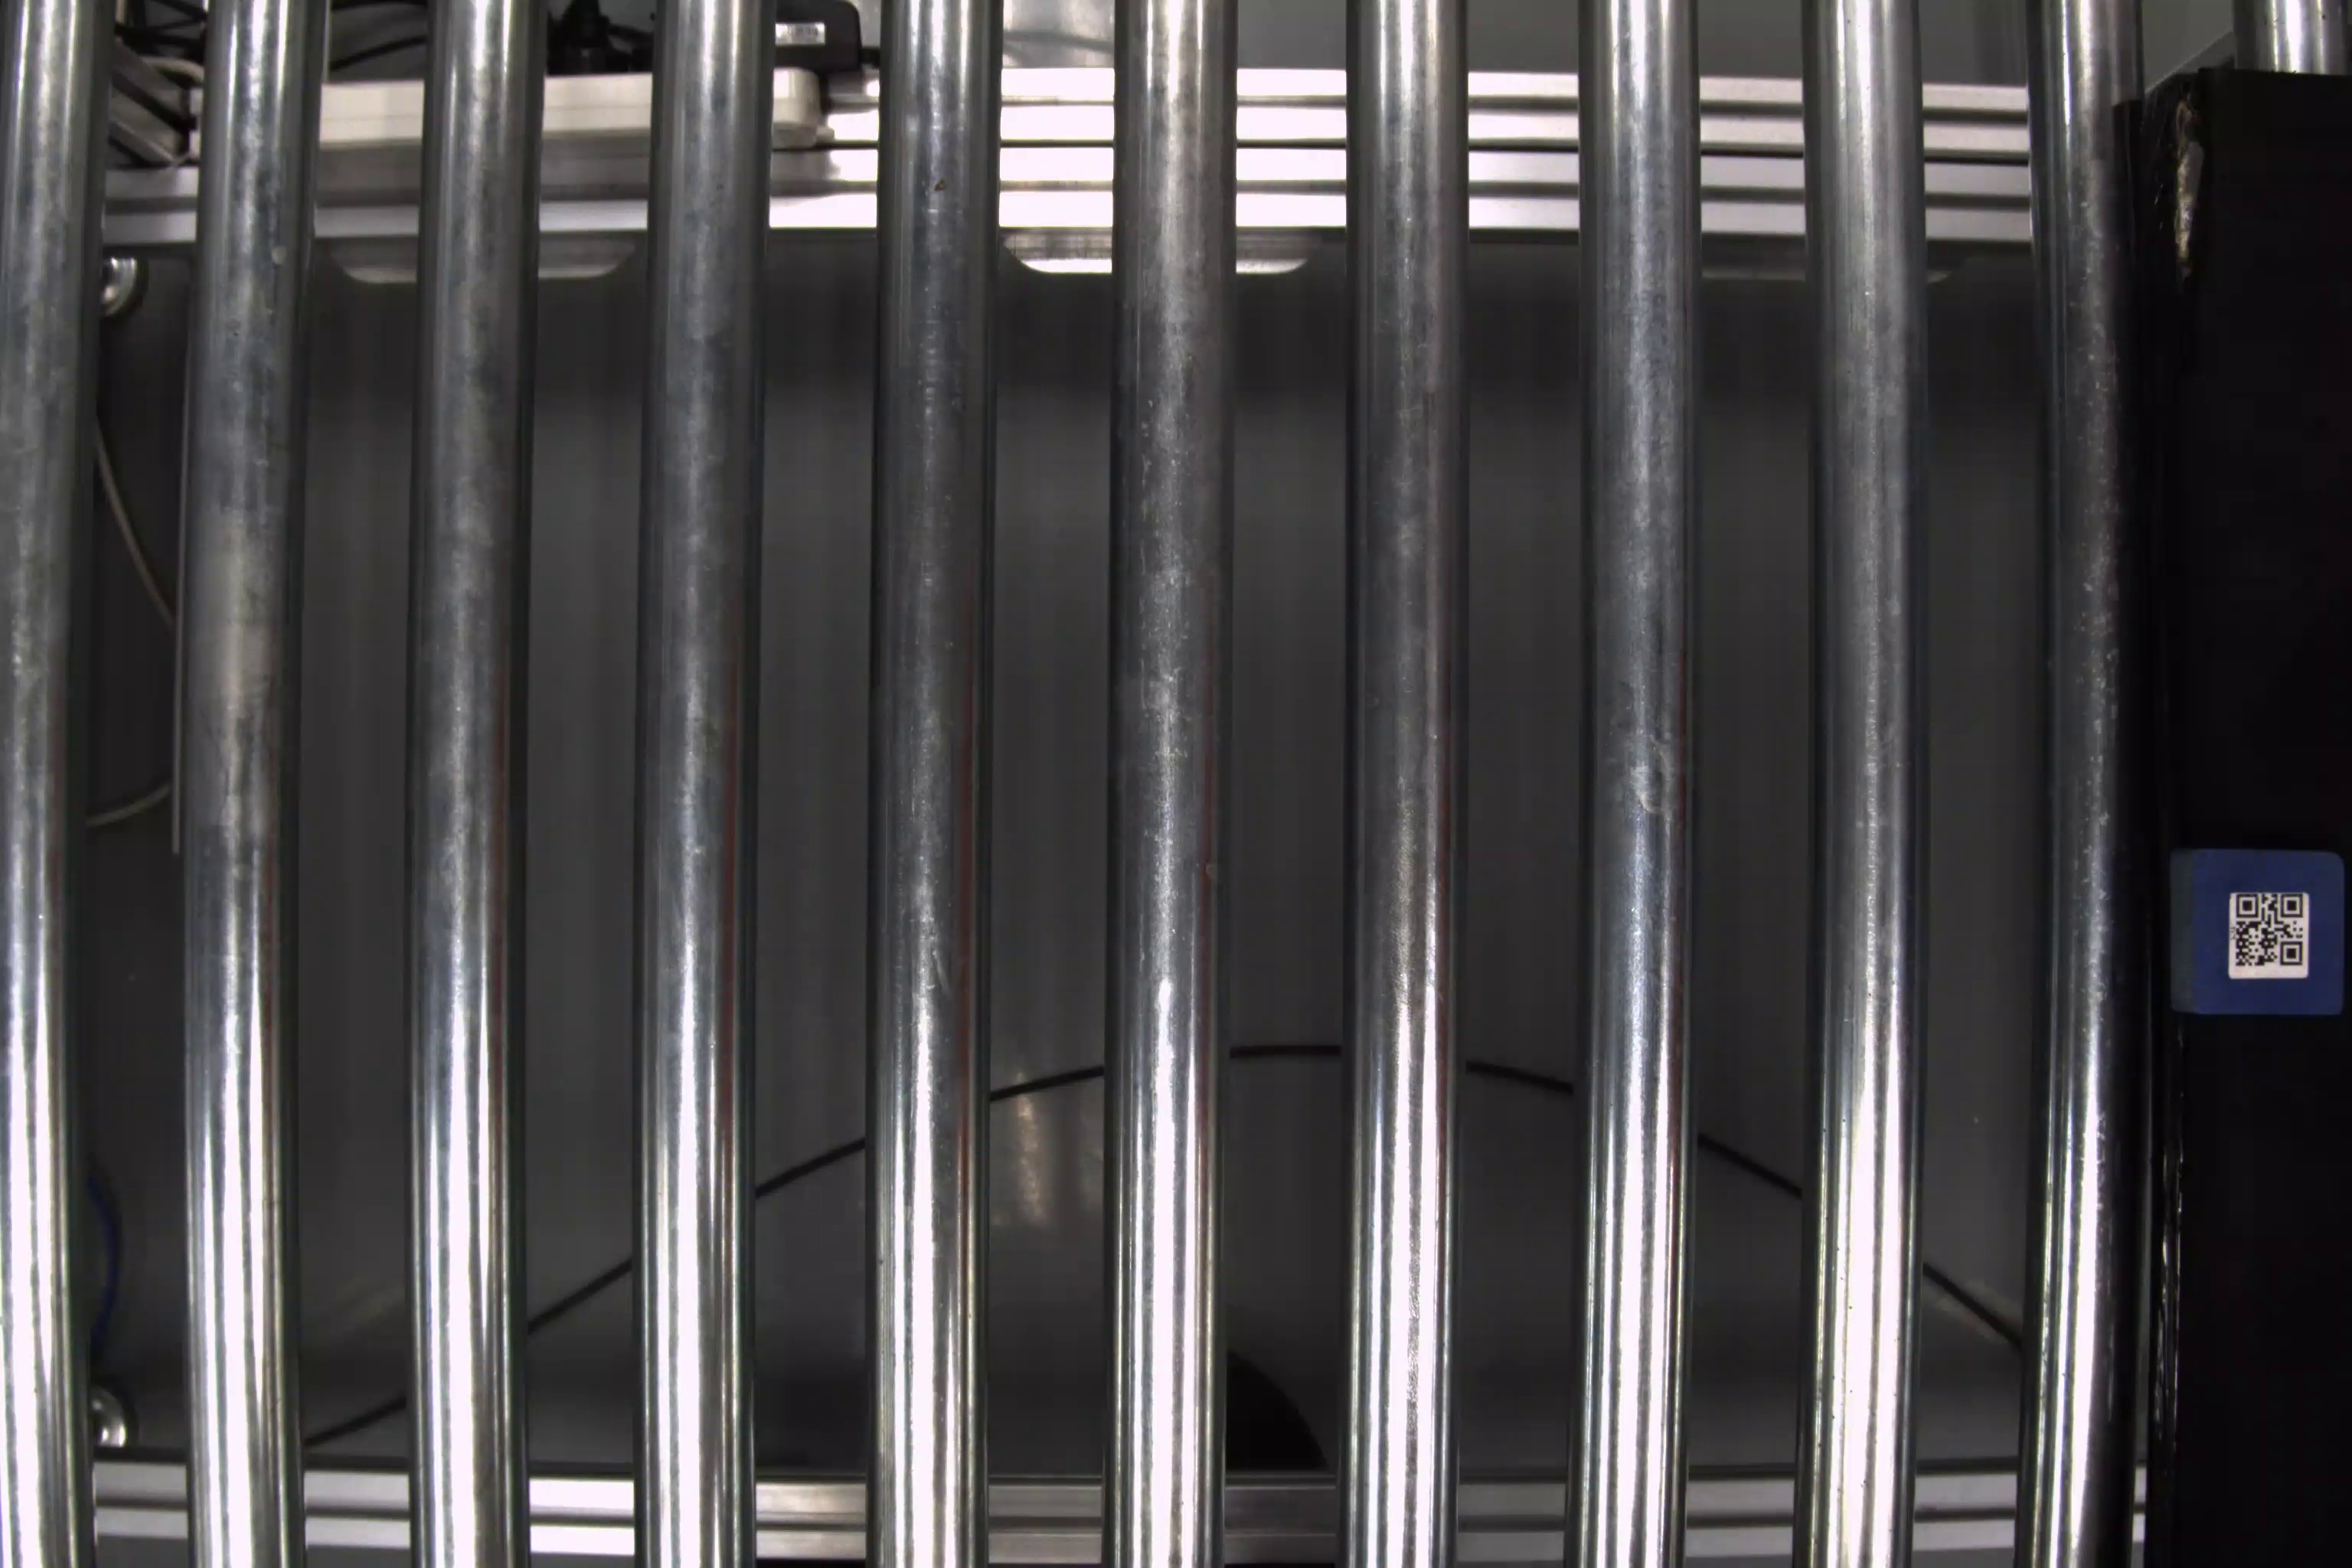wood: (2159, 845, 2350, 1022)
